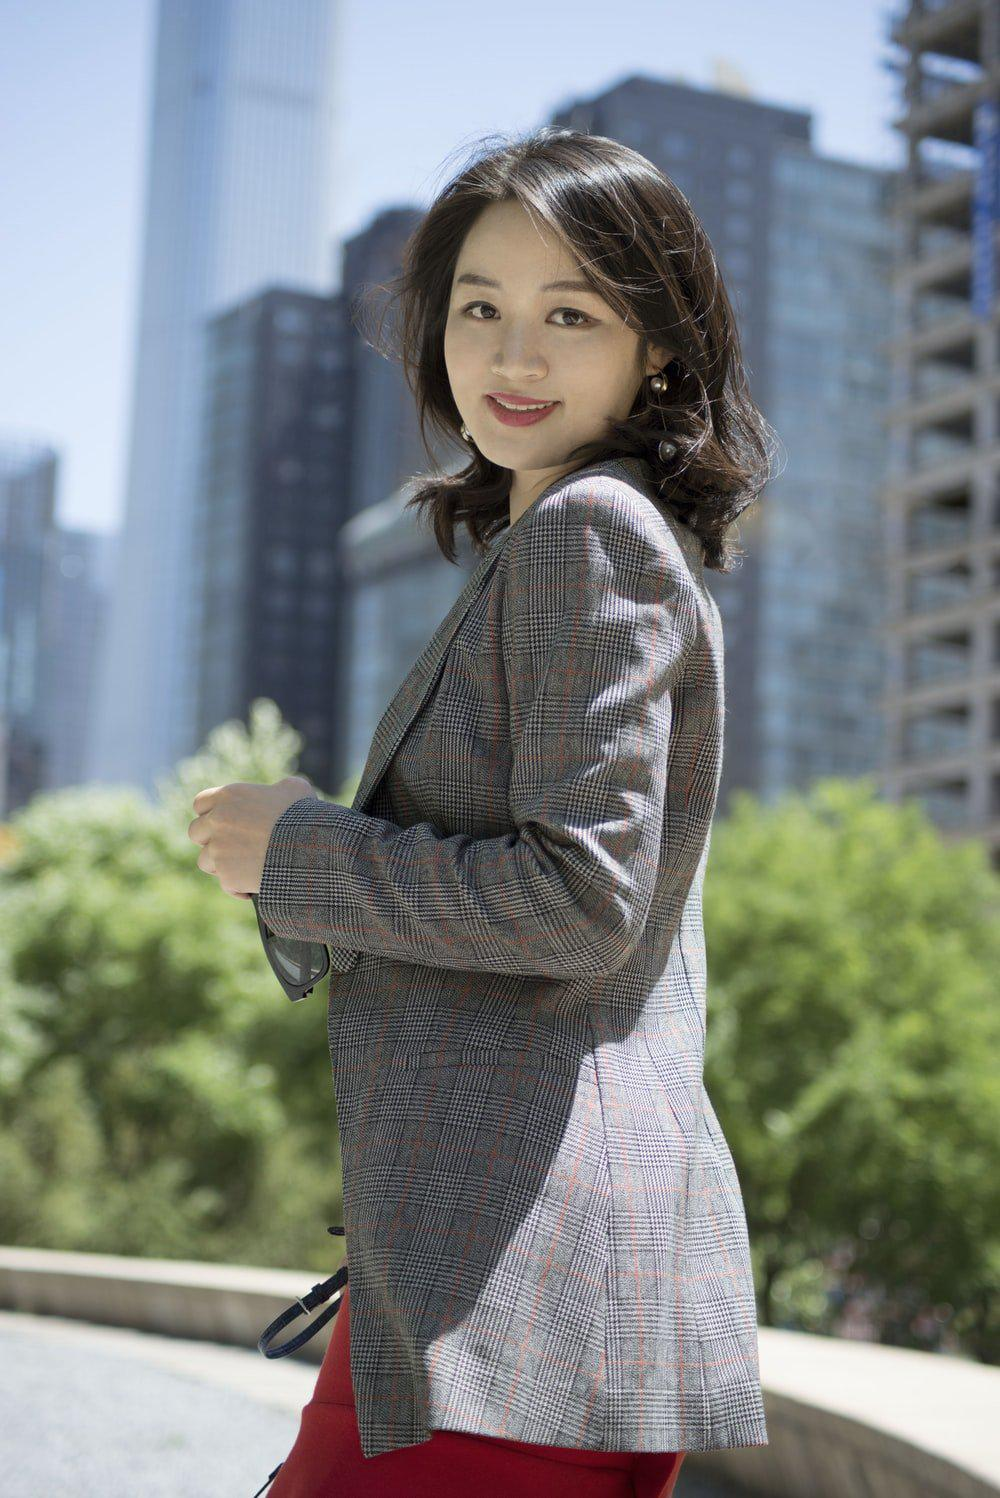Sober: (448, 224, 635, 443)
